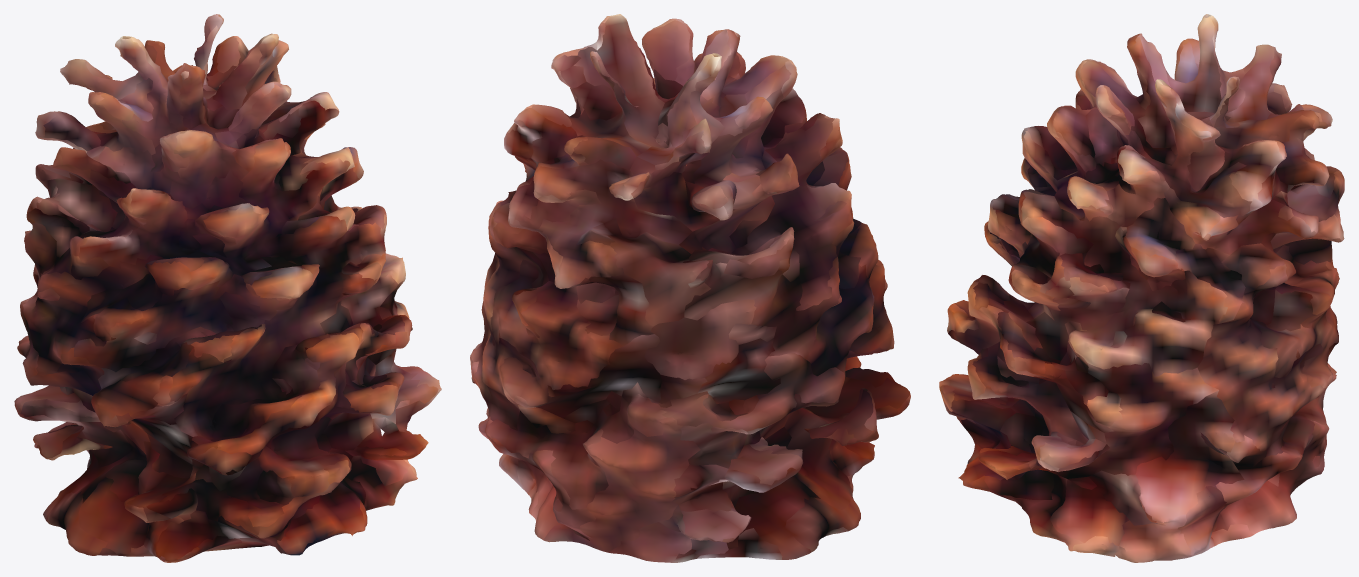
File: pine_cone.glb
3 views of the same model, side by side, from view 1: azimuth 30°, elevation 25°; view 2: azimuth 150°, elevation 25°; view 3: azimuth 270°, elevation 25° (orthographic). The views are drawn at different scales.
Parts seen in each view (by area): view 1: Object_2; view 2: Object_2; view 3: Object_2.
Boxes of the visible parts, bbox=[...] form: Object_2: bbox=[14, 14, 441, 562]; Object_2: bbox=[470, 14, 910, 562]; Object_2: bbox=[939, 14, 1344, 562].
Size of the model in its own units: 0.0786 by 0.095 by 0.0782.
1 material, 1 textured.
